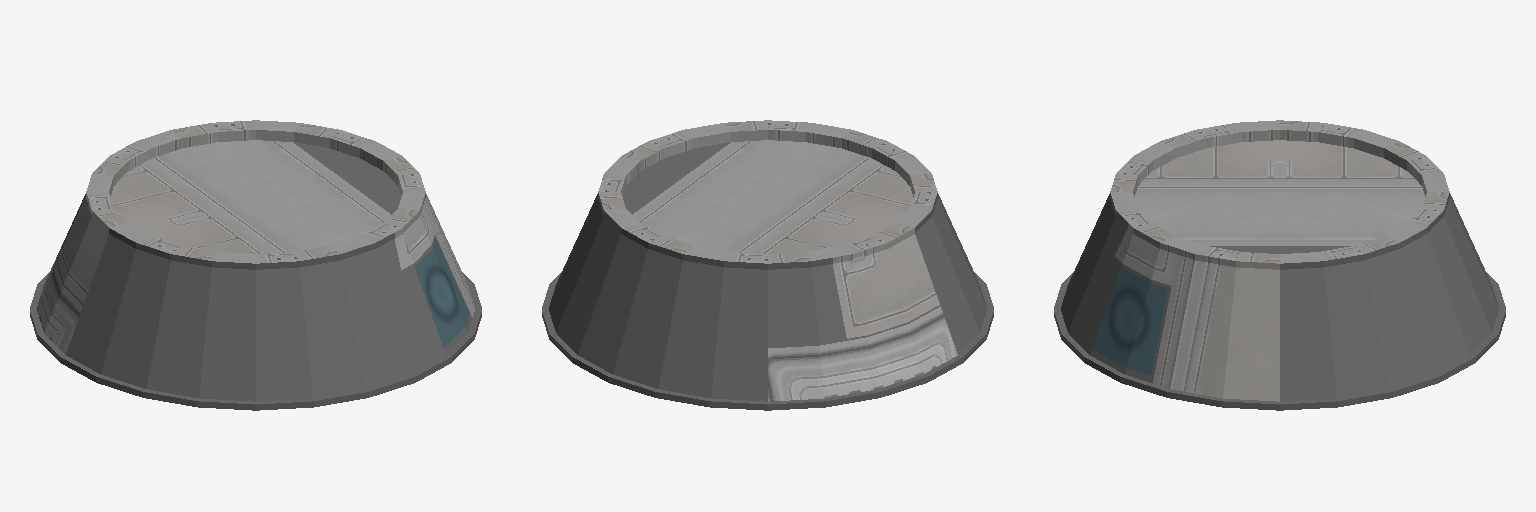
3 renders of one model, left to right at view 1: azimuth 30°, elevation 25°; view 2: azimuth 150°, elevation 25°; view 3: azimuth 270°, elevation 25°, orthographic.
Parts seen in each view (by area): view 1: vega_adapter_s2_s1p5_1; view 2: vega_adapter_s2_s1p5_1; view 3: vega_adapter_s2_s1p5_1.
Boxes of the visible parts, x1=… form: vega_adapter_s2_s1p5_1: x1=30, y1=120, x2=481, y2=410; vega_adapter_s2_s1p5_1: x1=542, y1=120, x2=993, y2=410; vega_adapter_s2_s1p5_1: x1=1054, y1=120, x2=1505, y2=410.
Size of the model in its own units: 2.5 by 0.78 by 2.5.
1 materials, 1 textured.